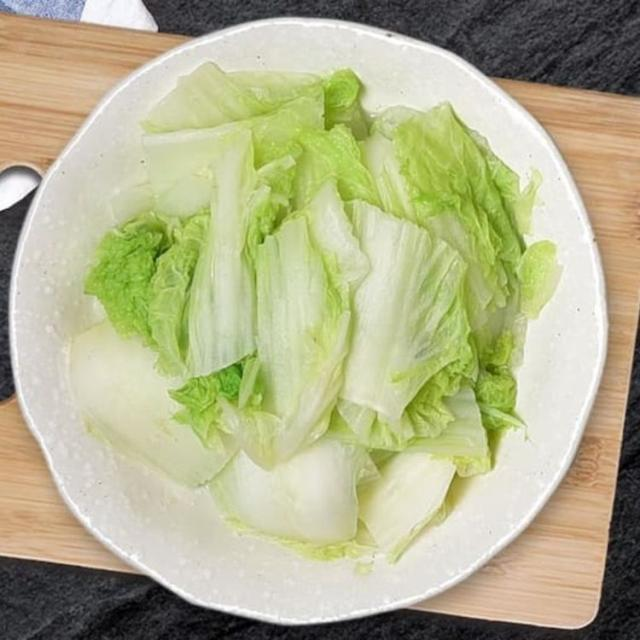bap cai luoc: (70, 65, 558, 561)
